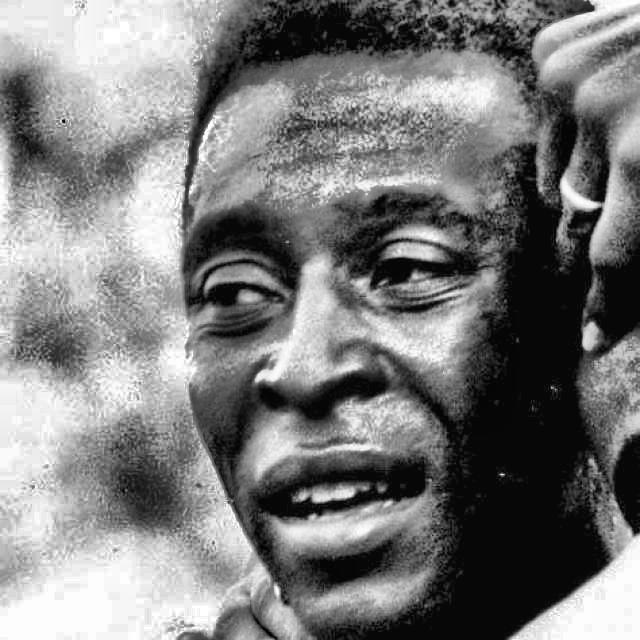sad: (142, 72, 568, 635)
